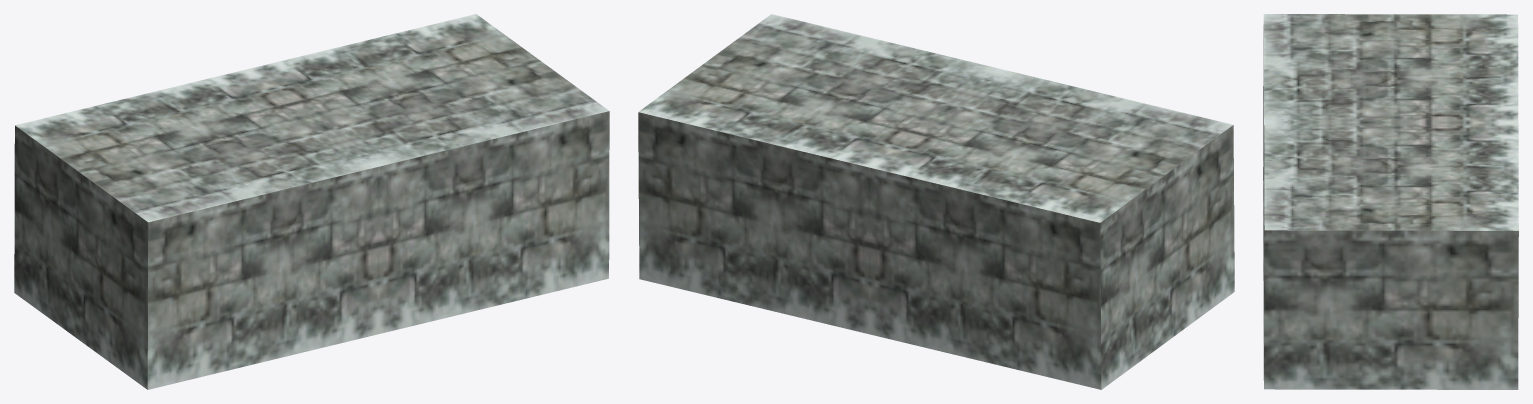
The model's file is S_Build_Snowland100.FBX.
3 renders of one model, left to right at view 1: azimuth 30°, elevation 25°; view 2: azimuth 150°, elevation 25°; view 3: azimuth 270°, elevation 25°, orthographic. The views are drawn at different scales.
Parts seen in each view (by area): view 1: S_Build_Snowland100; view 2: S_Build_Snowland100; view 3: S_Build_Snowland100.
Boxes of the visible parts, <box> form: S_Build_Snowland100: <box>14,14,609,389</box>; S_Build_Snowland100: <box>638,14,1234,389</box>; S_Build_Snowland100: <box>1263,14,1518,389</box>.
Size of the model in its own units: 878 by 441 by 307.
